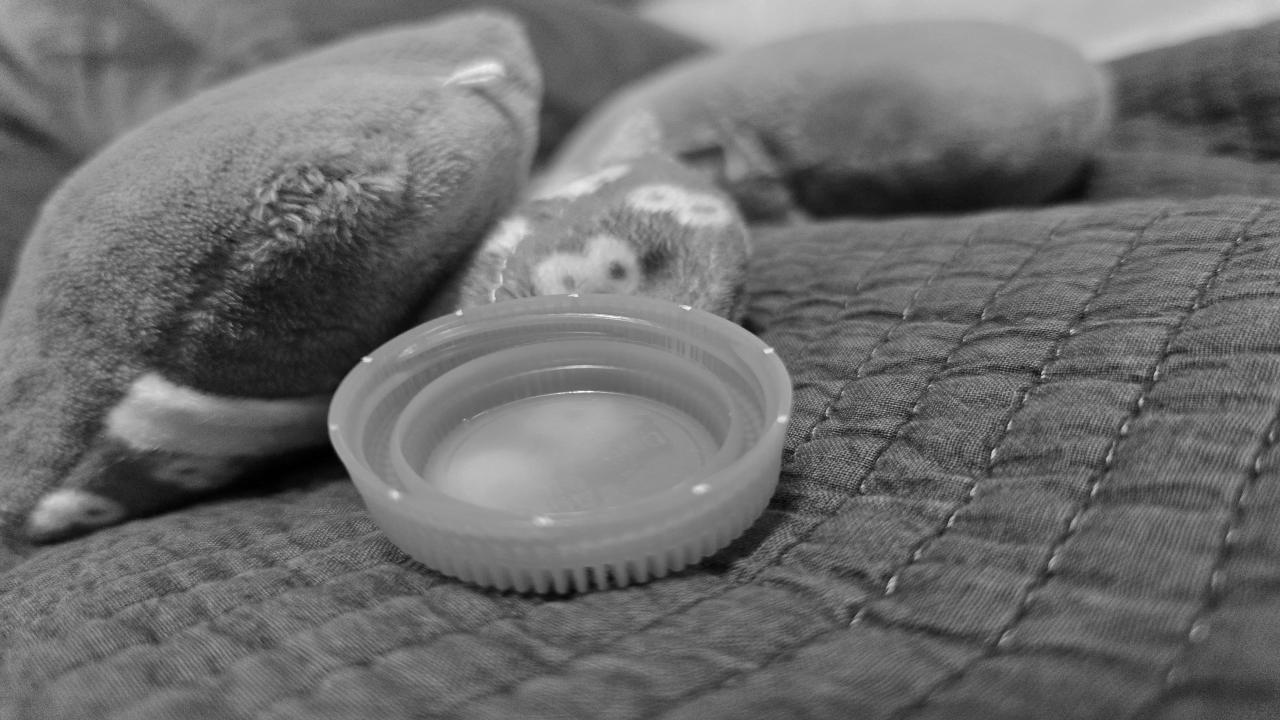bottle_cap: (324, 291, 795, 593)
